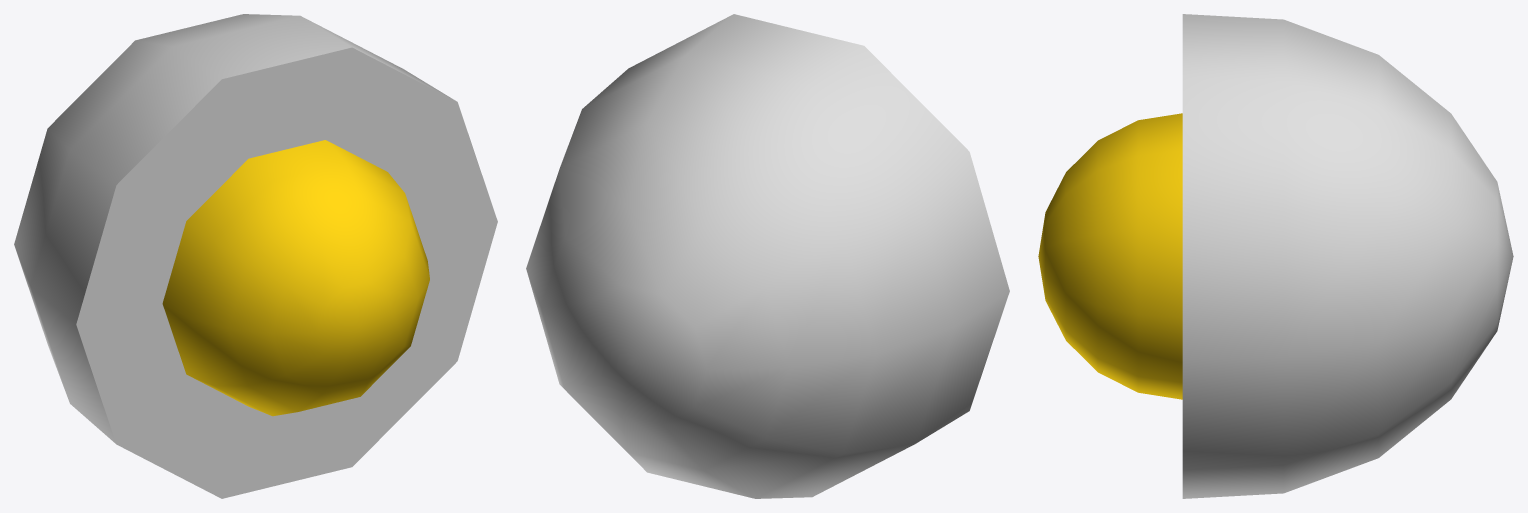
Rendered from Egg_02.obj.
3 renders of one model, left to right at view 1: azimuth 30°, elevation 25°; view 2: azimuth 150°, elevation 25°; view 3: azimuth 270°, elevation 25°, orthographic.
Parts seen in each view (by area): view 1: pSphere50; view 2: pSphere50; view 3: pSphere50.
Boxes of the visible parts, <box> form: pSphere50: <box>14,14,497,498</box>; pSphere50: <box>526,14,1009,498</box>; pSphere50: <box>1038,14,1513,498</box>.
Size of the model in its own units: 84.06 by 79.95 by 81.75.
